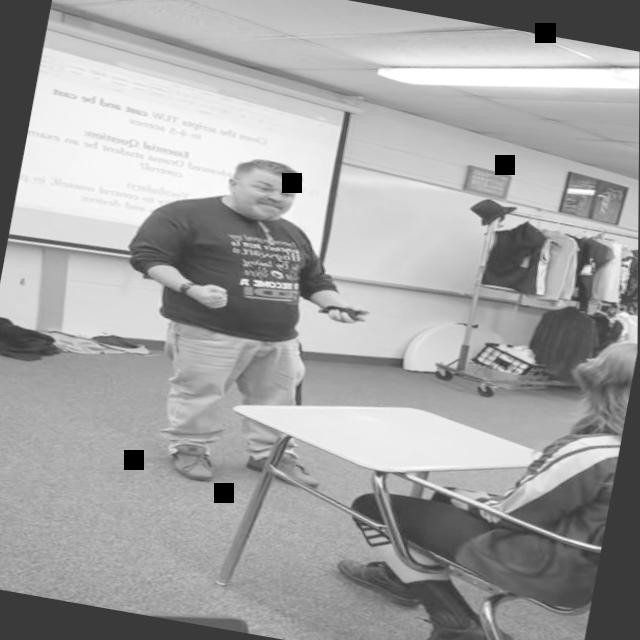NO-Mask: (226, 160, 300, 226)
